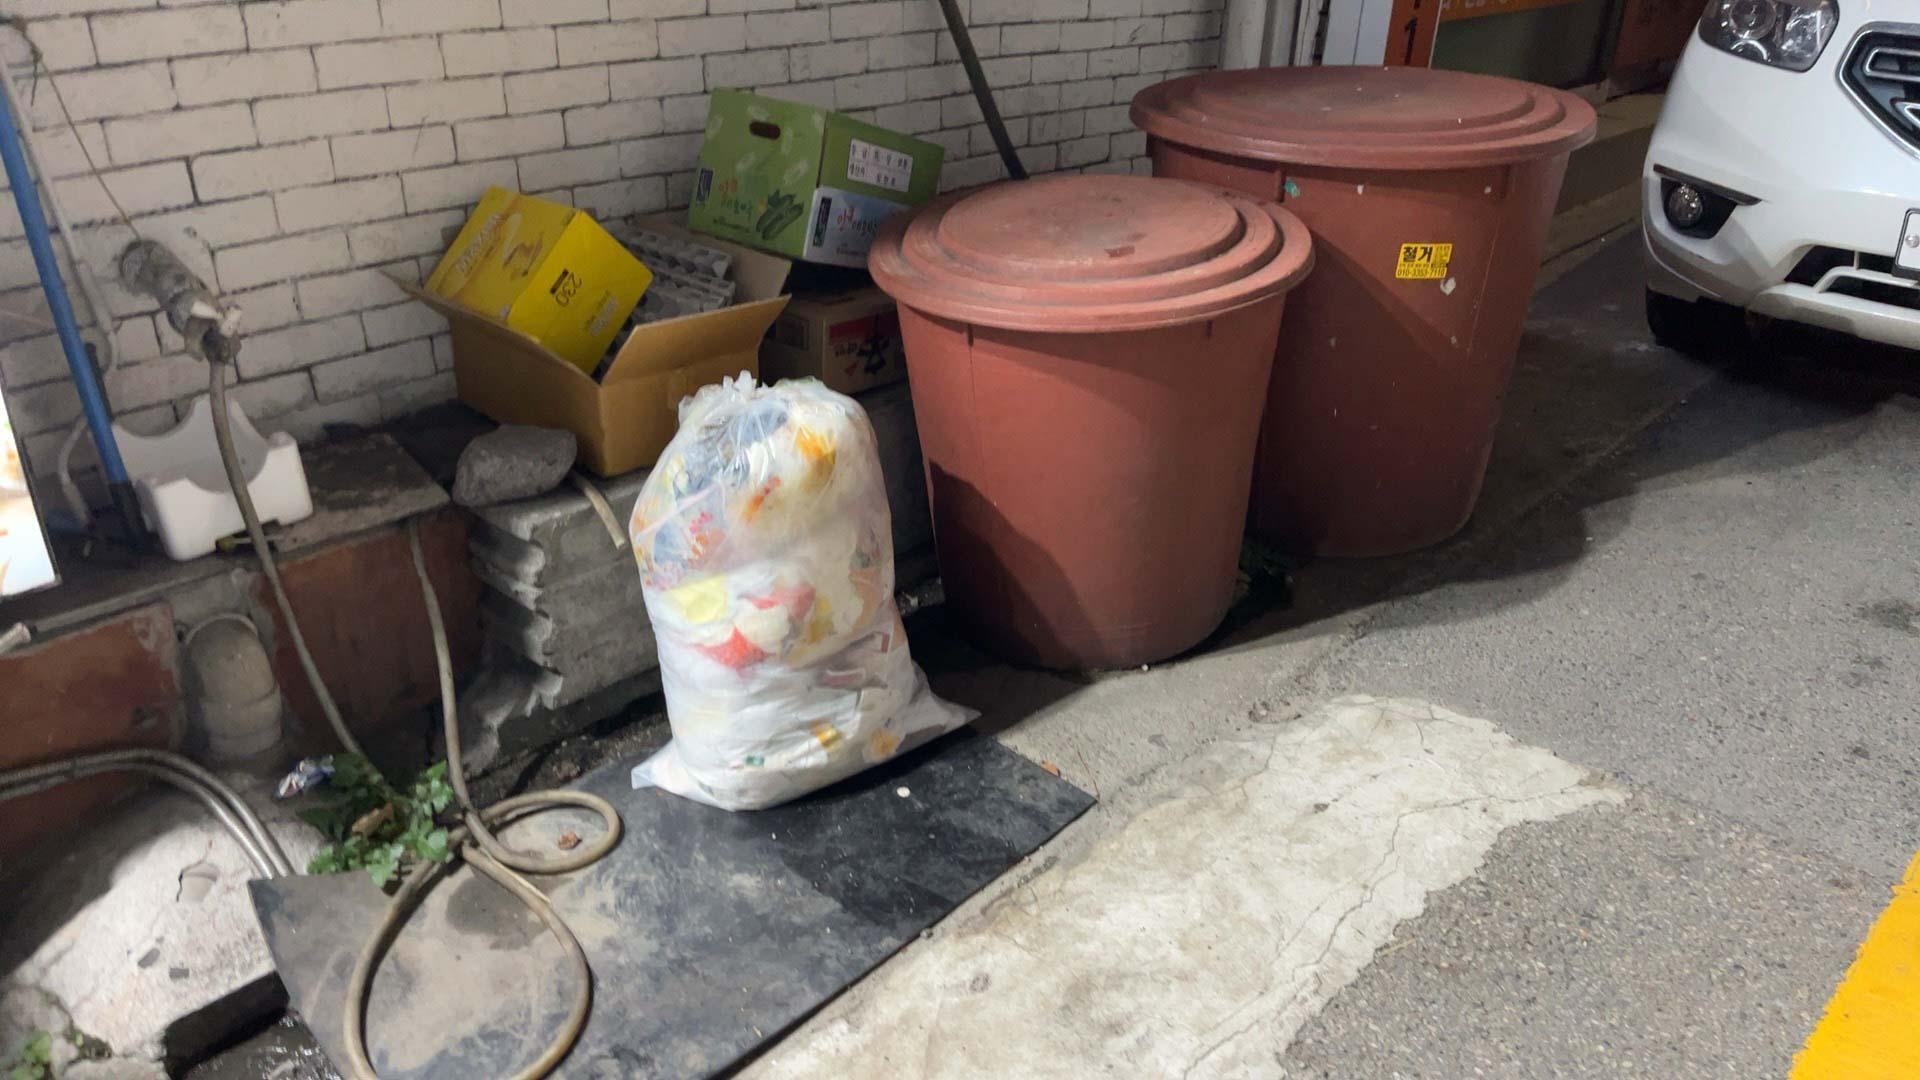white_bag: (607, 360, 989, 814)
